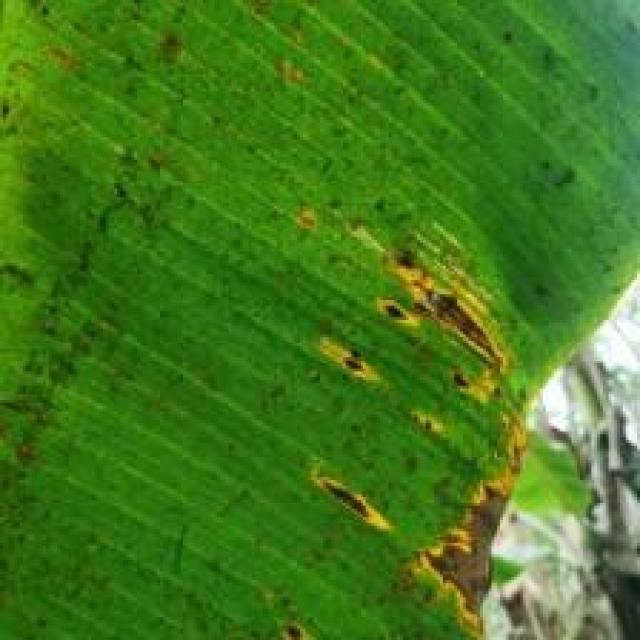Downey_mildrew: (260, 163, 566, 640), (0, 0, 203, 546), (240, 0, 640, 157)
